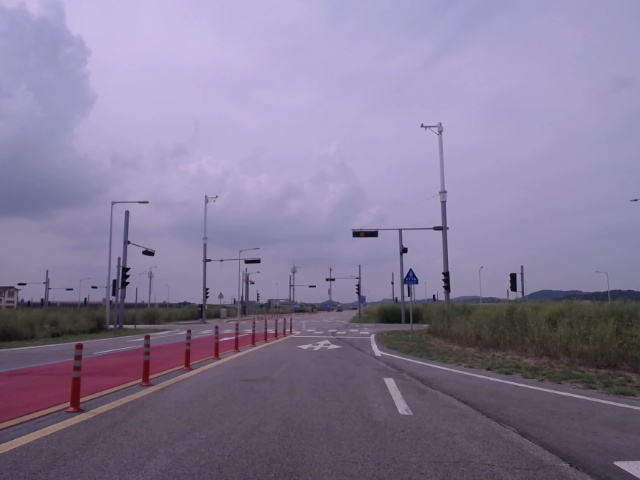orange_4: (351, 228, 378, 239), (325, 277, 337, 282)
